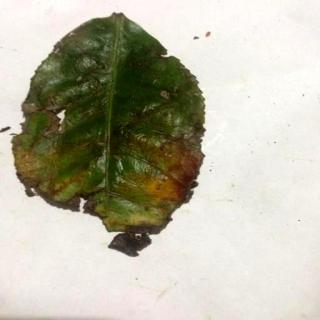Red Leaf Spot: (13, 12, 205, 258)
